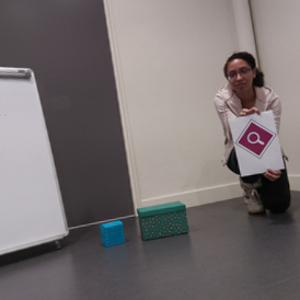search: (236, 119, 276, 158)
